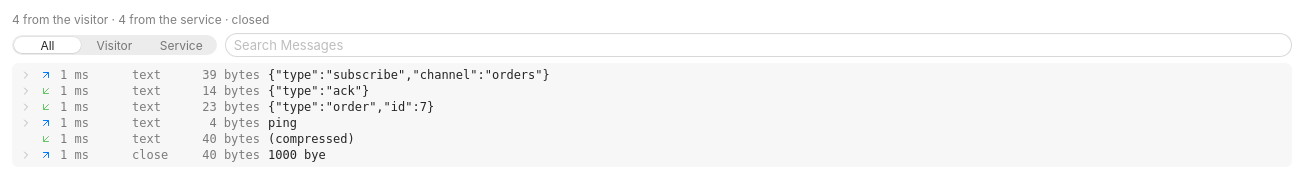
Scenario: messages › filters and opens a frame to read it whole
Check: the number of list items is 6, box [12,67,1292,83]; [12,83,1292,99]; [12,99,1292,115]; [12,115,1292,131]; [12,131,1292,147]; [12,147,1292,163]
Click the radio button labelled "Service". click: click(181, 45)
box: [148,37,215,53]
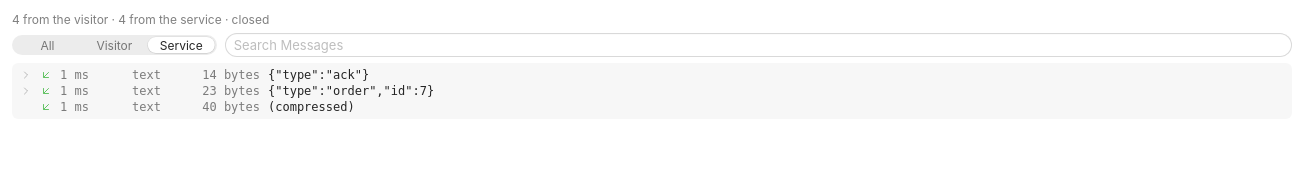
Check: the number of list items is 3, box [12,67,1292,83]; [12,83,1292,99]; [12,99,1292,115]
Type "order" into the search field labelled "Search Messages". click: (758, 45)
box: [225,33,1292,57]
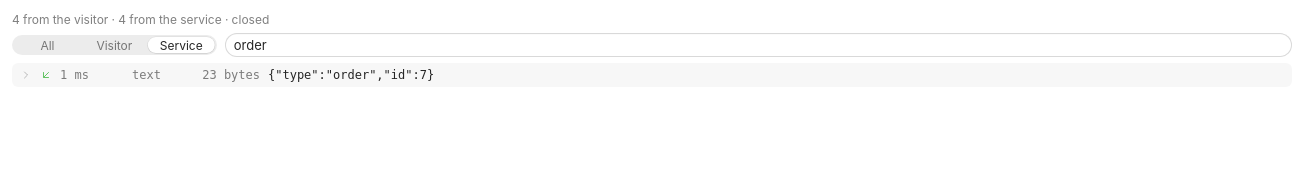
Check: the number of list items is 1
Click the button. click: click(231, 75)
box: [12,67,1292,83]
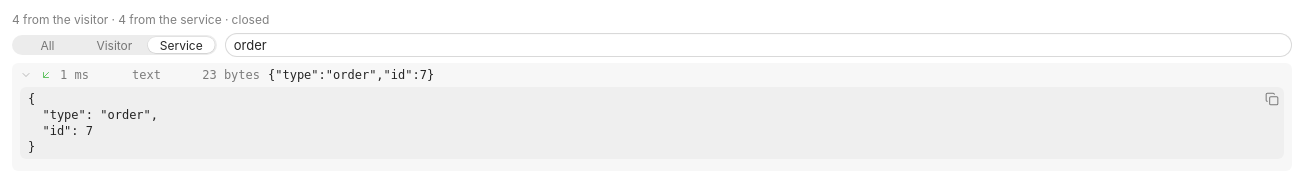
Check: the button "1 ms text 23 bytes {\"type\":\"order\",\"id\":7}" is expanded, box [12,67,1292,83]
Check: the text "{ \"type\": \"order\", \"id\": 7 }" is shown, box [28,92,158,154]
Check: the button named "Copy" is shown, box [1262,89,1282,109]
Replace the text in the search field named "Search Messages" with "nothing like this". click: (758, 45)
box: [225,33,1292,57]
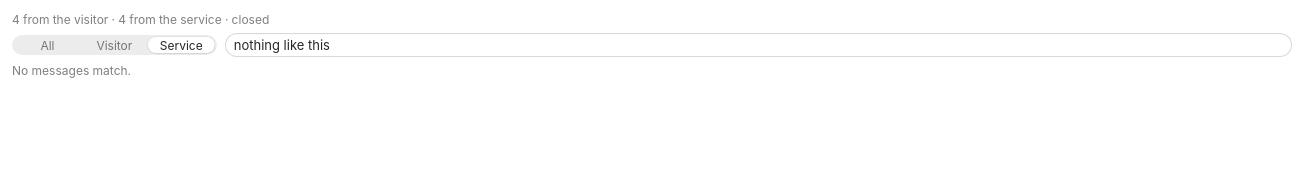
Check: the text "No messages match." is shown, box [12,63,131,78]
